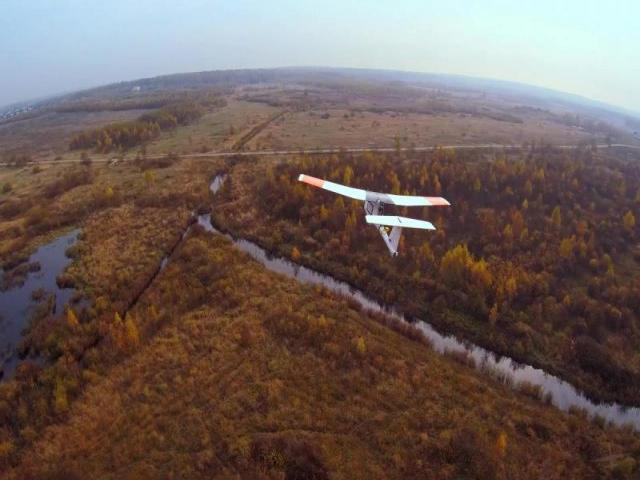hedef: (298, 168, 450, 260)
